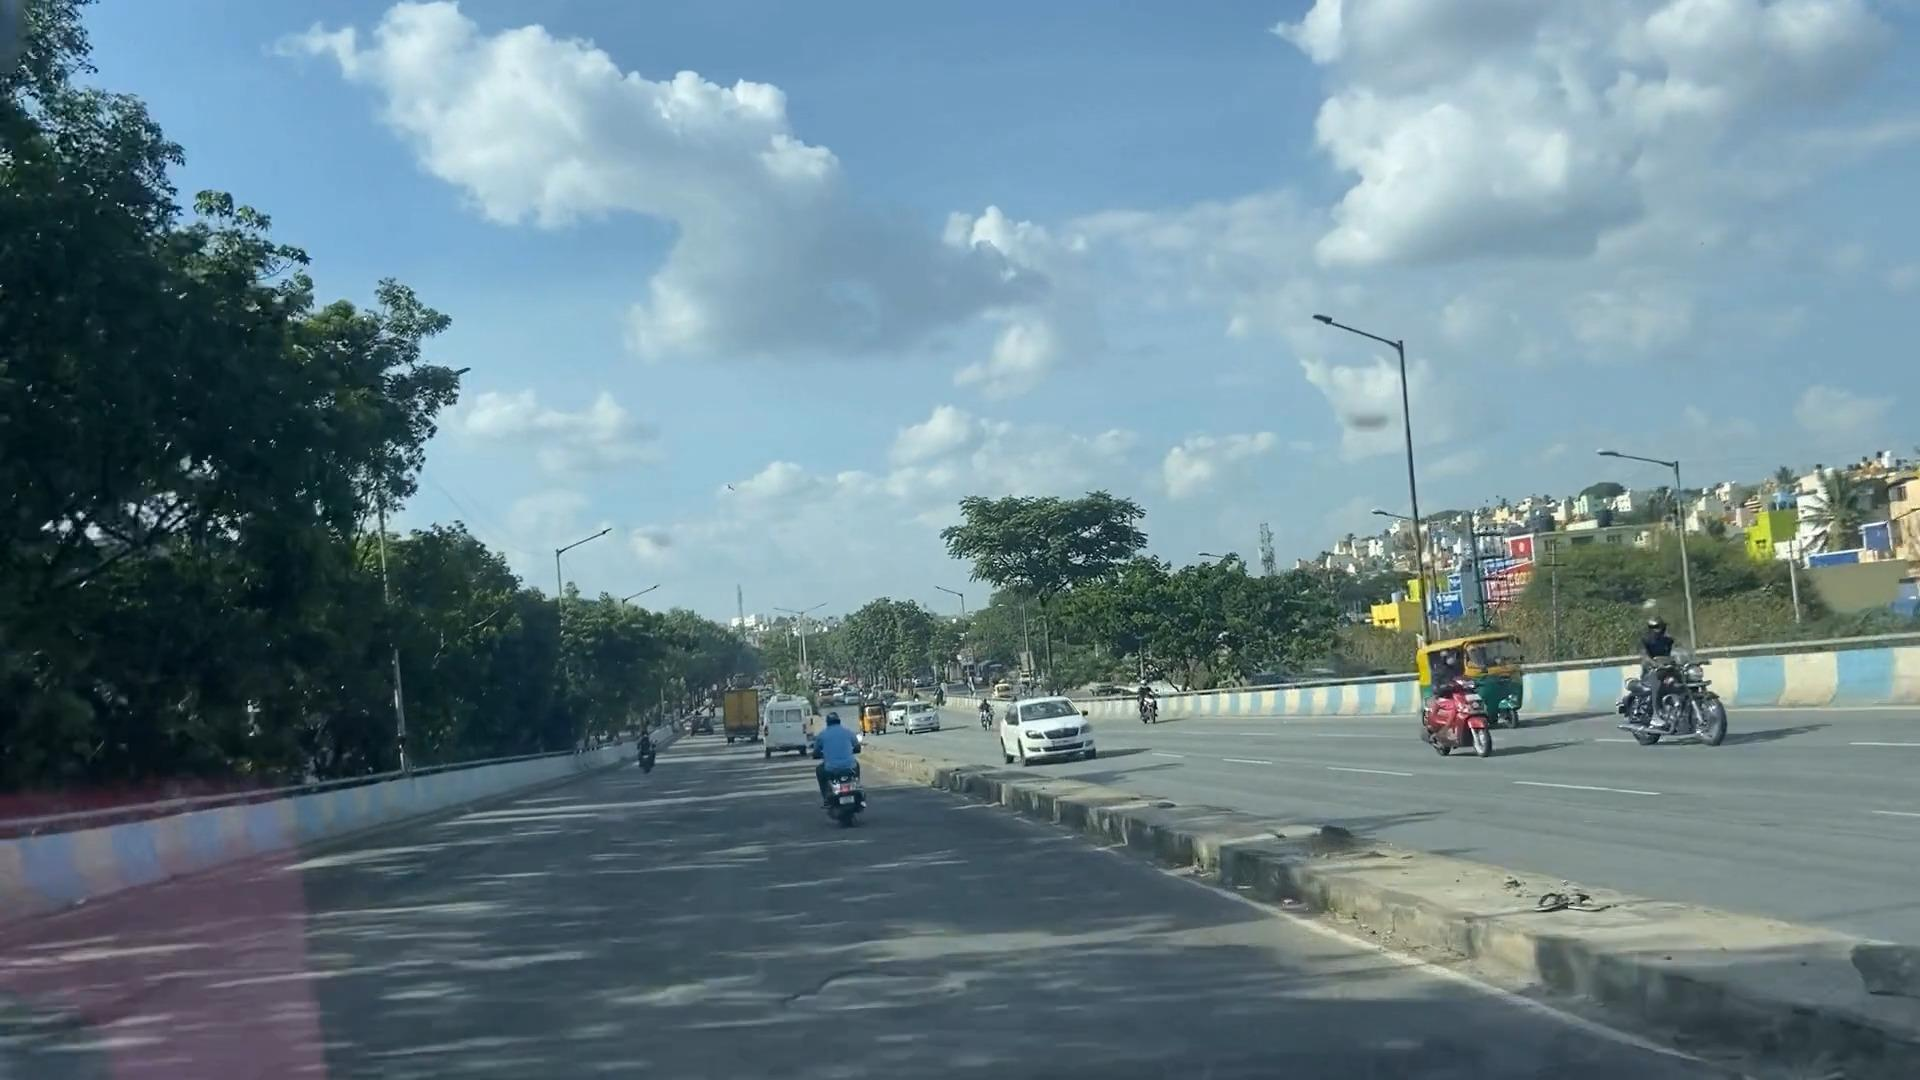LMV: (802, 666, 876, 831)
